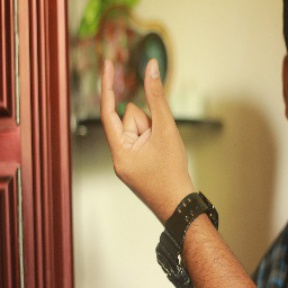U: (99, 54, 183, 185)
